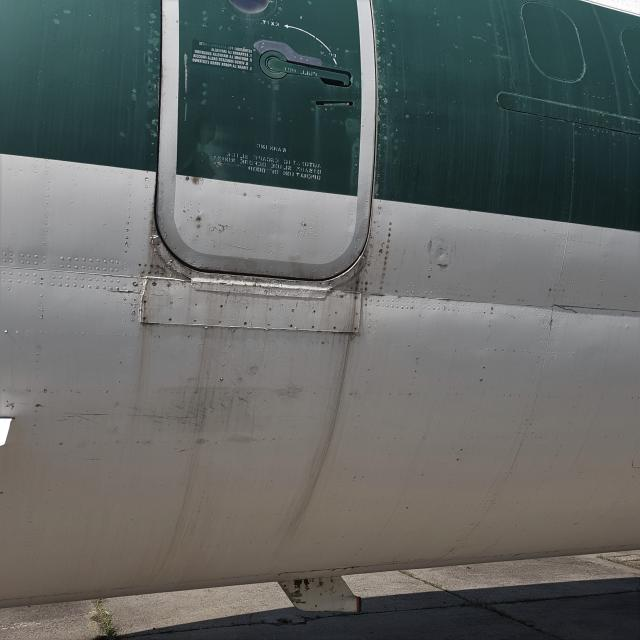Rupture: (555, 302, 580, 318)
